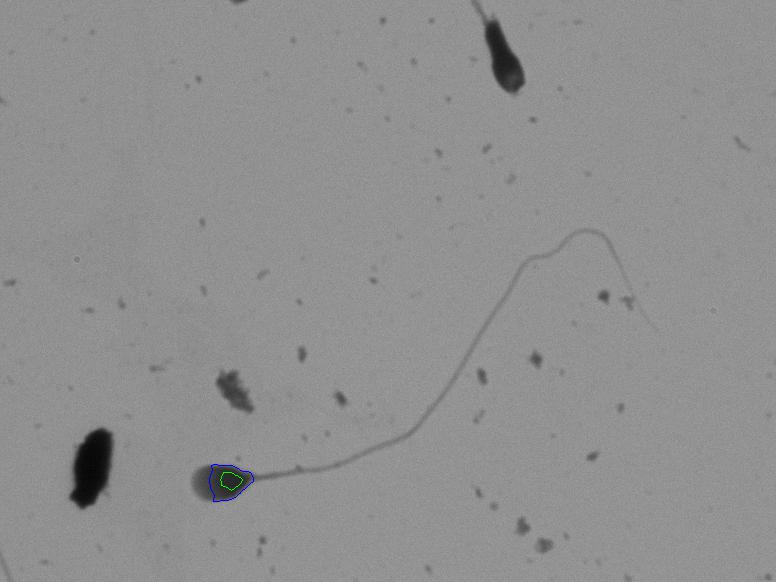Normal: (160, 187, 702, 541)
